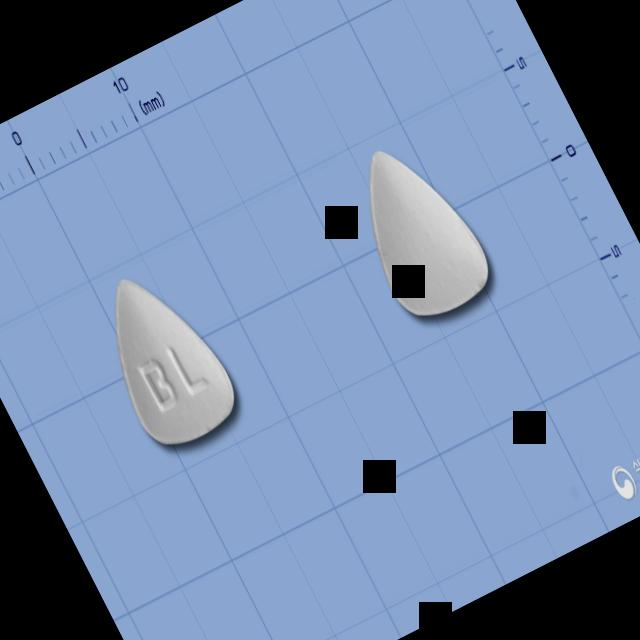Baracle -1mg: (75, 253, 254, 464)
